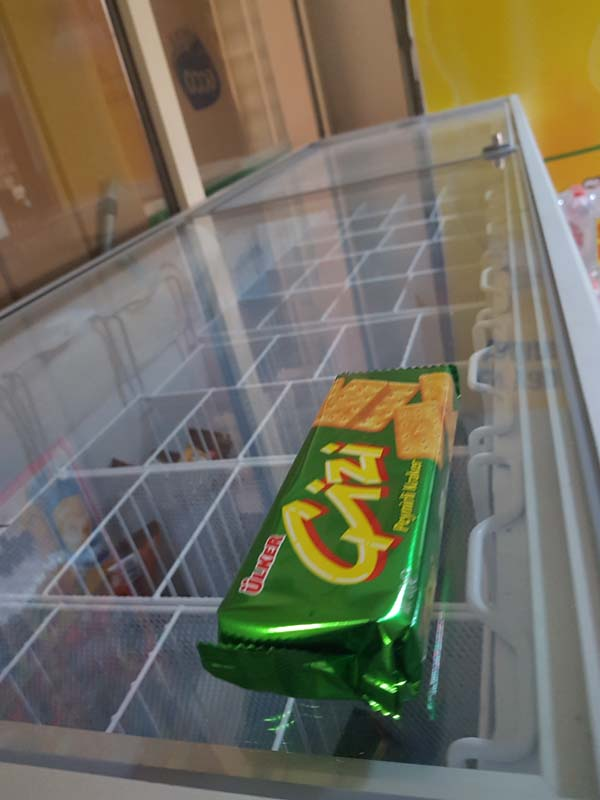cizi: (189, 359, 470, 728)
